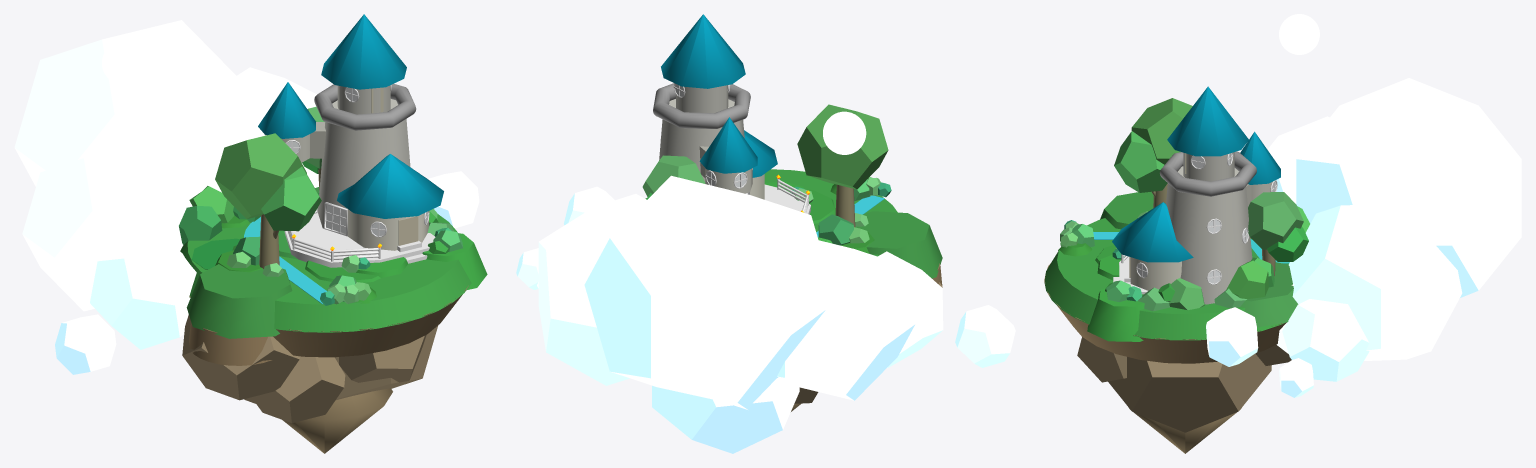
3 views of the same model, side by side, from view 1: azimuth 30°, elevation 25°; view 2: azimuth 150°, elevation 25°; view 3: azimuth 270°, elevation 25° (orthographic). The views are drawn at different scales.
Visible parts, largest first — view 1: Dodecahedron (×16), Cylinder (×13), Lathe (×4), Torus, Box (×4); view 2: Dodecahedron (×12), Cylinder (×7), Lathe (×3), Torus; view 3: Dodecahedron (×16), Cylinder (×8), Lathe (×4), Torus.
Part boxes in pixels (x1,y1,x2,y2): Dodecahedron (×16): (14,20,479,423); Cylinder (×13): (180,85,487,365); Lathe (×4): (258,14,443,453); Torus: (314,83,416,130); Box (×4): (279,122,435,304); Dodecahedron (×12): (516,104,1015,453); Cylinder (×7): (659,85,942,278); Lathe (×3): (661,14,777,177); Torus: (653,83,750,128); Dodecahedron (×16): (1077,14,1521,432); Cylinder (×8): (1044,152,1298,363); Lathe (×4): (1112,86,1280,453); Torus: (1159,151,1256,196).
Size of the model in its own units: 3.77 by 3.36 by 3.72.
